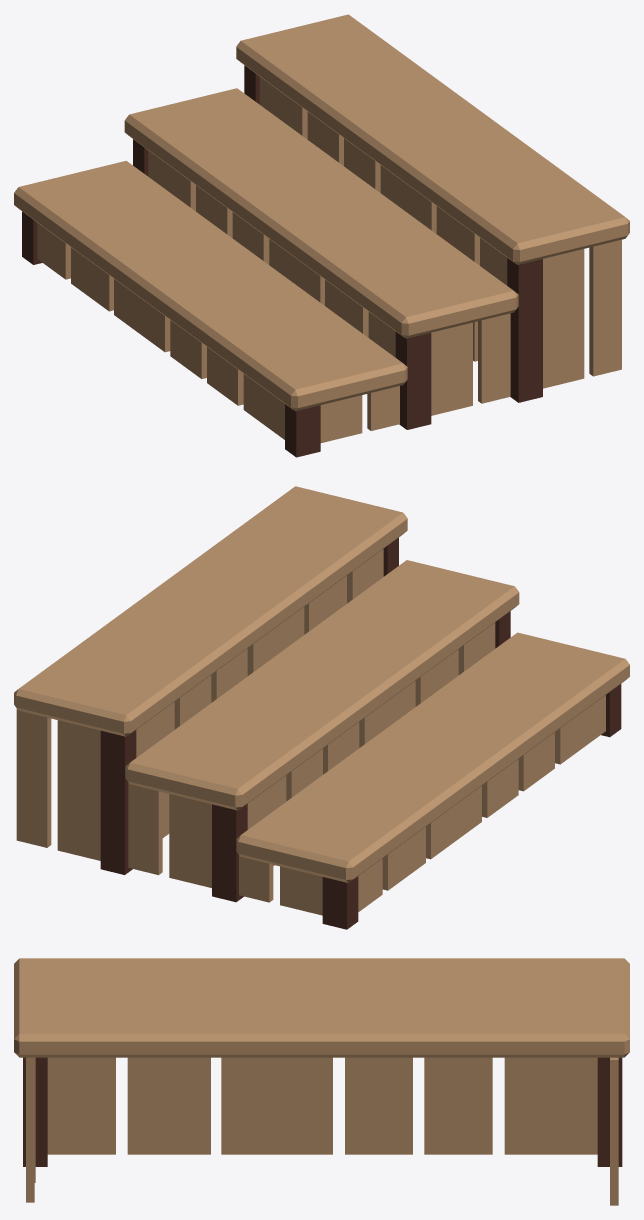
The model's file is small-stairs.glb.
3 views of the same model, one above another, from view 1: azimuth 30°, elevation 25°; view 2: azimuth 150°, elevation 25°; view 3: azimuth 270°, elevation 25° (orthographic). The views are drawn at different scales.
Parts seen in each view (by area): view 1: Small Stairs (×2); view 2: Small Stairs (×2); view 3: Small Stairs (×2).
Part boxes in pixels (x1=…): Small Stairs (×2): x1=14, y1=14, x2=629, y2=457; Small Stairs (×2): x1=14, y1=486, x2=629, y2=929; Small Stairs (×2): x1=14, y1=958, x2=629, y2=1205.
Bounding box in the file's own units: 0.6878 × 0.3135 × 0.9897.
